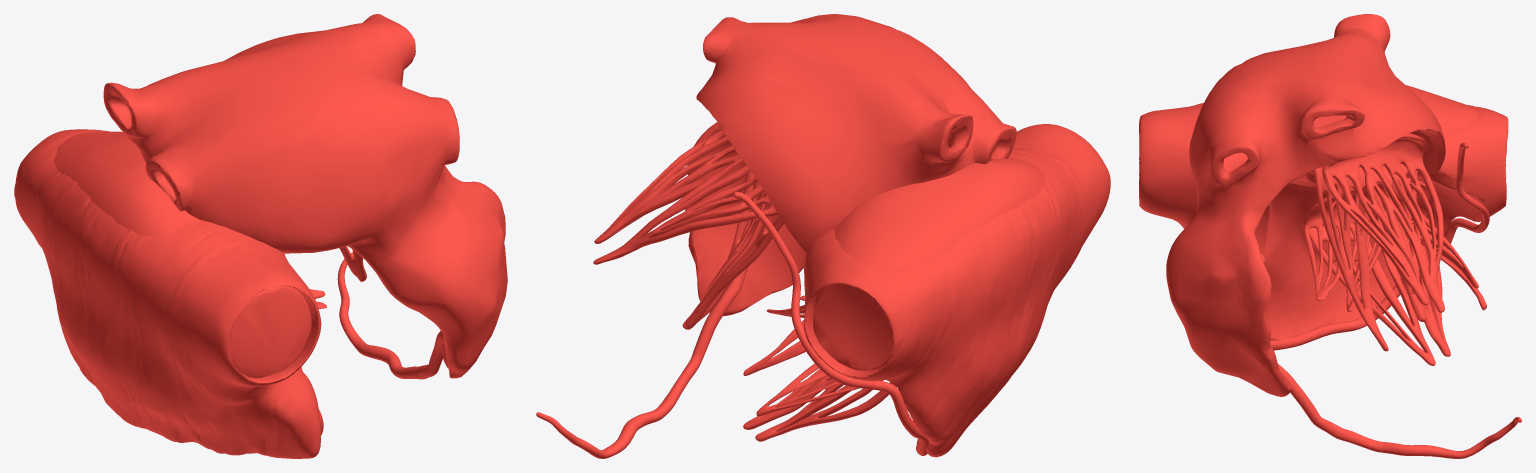
File: heart.glb
3 renders of one model, left to right at view 1: azimuth 30°, elevation 25°; view 2: azimuth 150°, elevation 25°; view 3: azimuth 270°, elevation 25°, orthographic. The views are drawn at different scales.
Parts seen in each view (by area): view 1: grp1_2, grp1, grp1_9, grp1_8; view 2: grp1_2, grp1, grp1_9, grp1_7, grp1_8, grp1_1, grp1_6, grp1_3, grp1_4; view 3: grp1_2, grp1, grp1_7, grp1_3, grp1_1, grp1_5, grp1_8, grp1_6, grp1_9, grp1_4.
Boxes of the visible parts, x1,y1,x2,y2 form: grp1_2: (103,14,507,378); grp1: (14,129,321,458); grp1_9: (54,131,311,377); grp1_8: (337,252,444,379); grp1_2: (685,14,1016,316); grp1: (804,124,1110,457); grp1_9: (813,158,1045,371); grp1_7: (593,130,778,264); grp1_8: (536,215,779,458); grp1_1: (743,369,896,441); grp1_6: (733,191,928,455); grp1_3: (682,171,783,329); grp1_4: (743,319,883,416); grp1_2: (1166,14,1445,396); grp1: (1139,103,1508,340); grp1_7: (1322,133,1444,312); grp1_3: (1306,163,1426,351); grp1_1: (1308,217,1450,365); grp1_5: (1304,184,1385,311); grp1_8: (1277,363,1521,458); grp1_6: (1261,142,1489,350); grp1_9: (1303,85,1479,230); grp1_4: (1384,178,1486,310).
Size of the model in its own units: 100 by 97.84 by 99.96.
